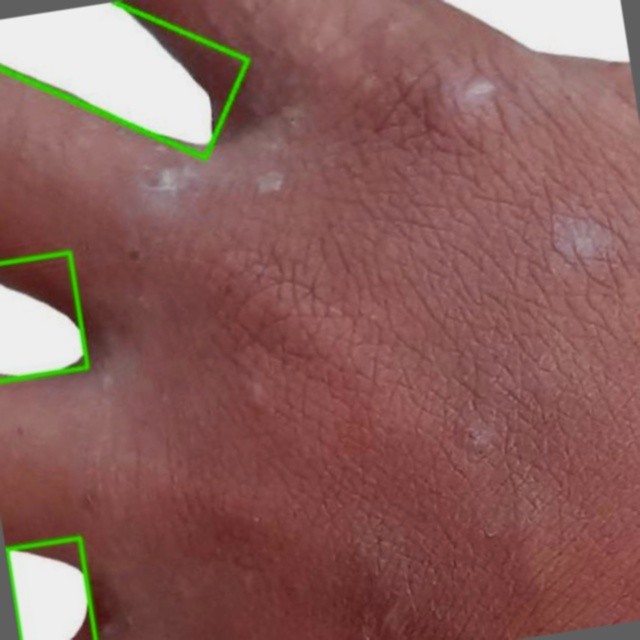Scabies: (0, 1, 247, 156), (0, 252, 87, 381), (6, 538, 95, 639)
